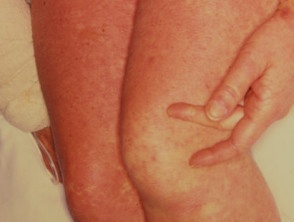SJS-TEN: (31, 0, 208, 222)
